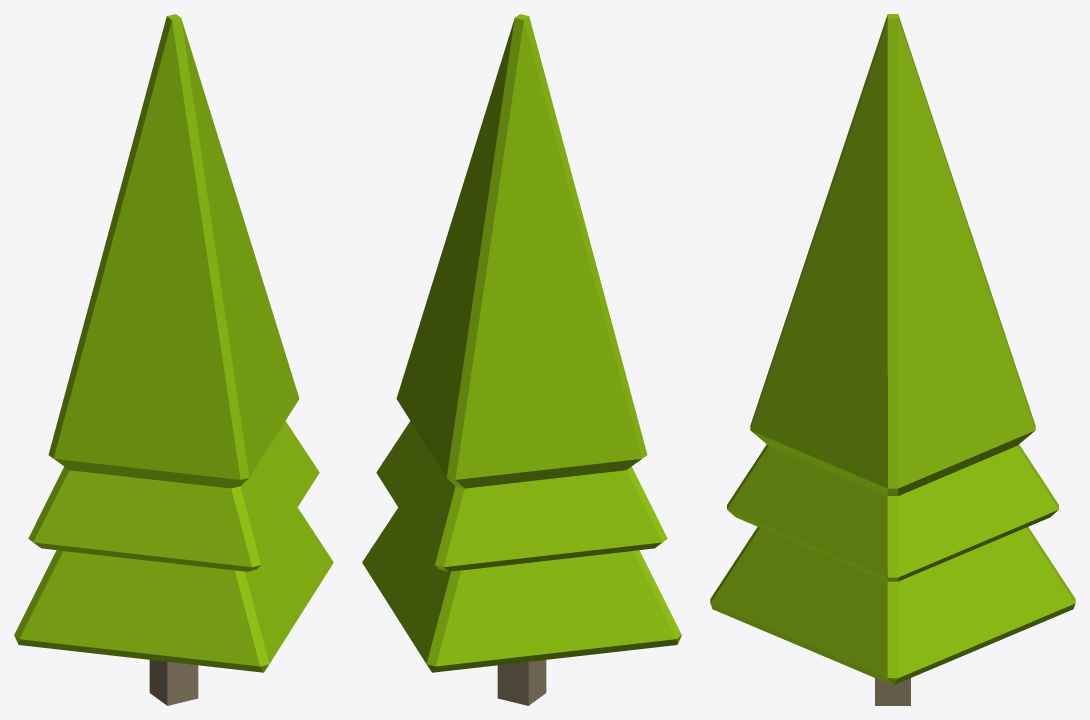
The model's file is pine_skewed_10_bevel.fbx.
The picture shows the model from 3 angles, left to right: view 1: azimuth 30°, elevation 25°; view 2: azimuth 150°, elevation 25°; view 3: azimuth 270°, elevation 25°; orthographic projection.
Parts seen in each view (by area): view 1: pine_skewed_10_bevel; view 2: pine_skewed_10_bevel; view 3: pine_skewed_10_bevel.
Boxes of the visible parts, x1,y1,x2,y2 form: pine_skewed_10_bevel: (14, 14, 333, 705); pine_skewed_10_bevel: (362, 14, 681, 705); pine_skewed_10_bevel: (710, 14, 1075, 705).
Bounding box in the file's own units: 124 × 255 × 124.
